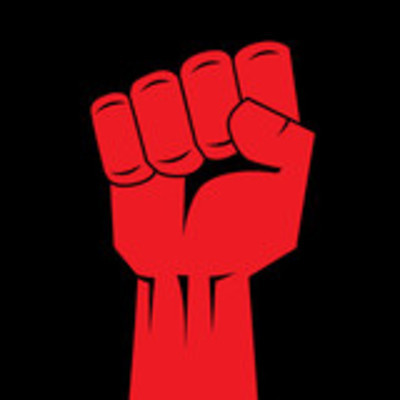closedhandfront: (71, 48, 333, 277)
